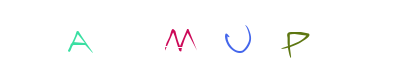3: (139, 0, 219, 80)
A: (90, 0, 170, 80)
M: (162, 0, 242, 80)
P: (255, 0, 335, 80)
U: (198, 0, 278, 80)
